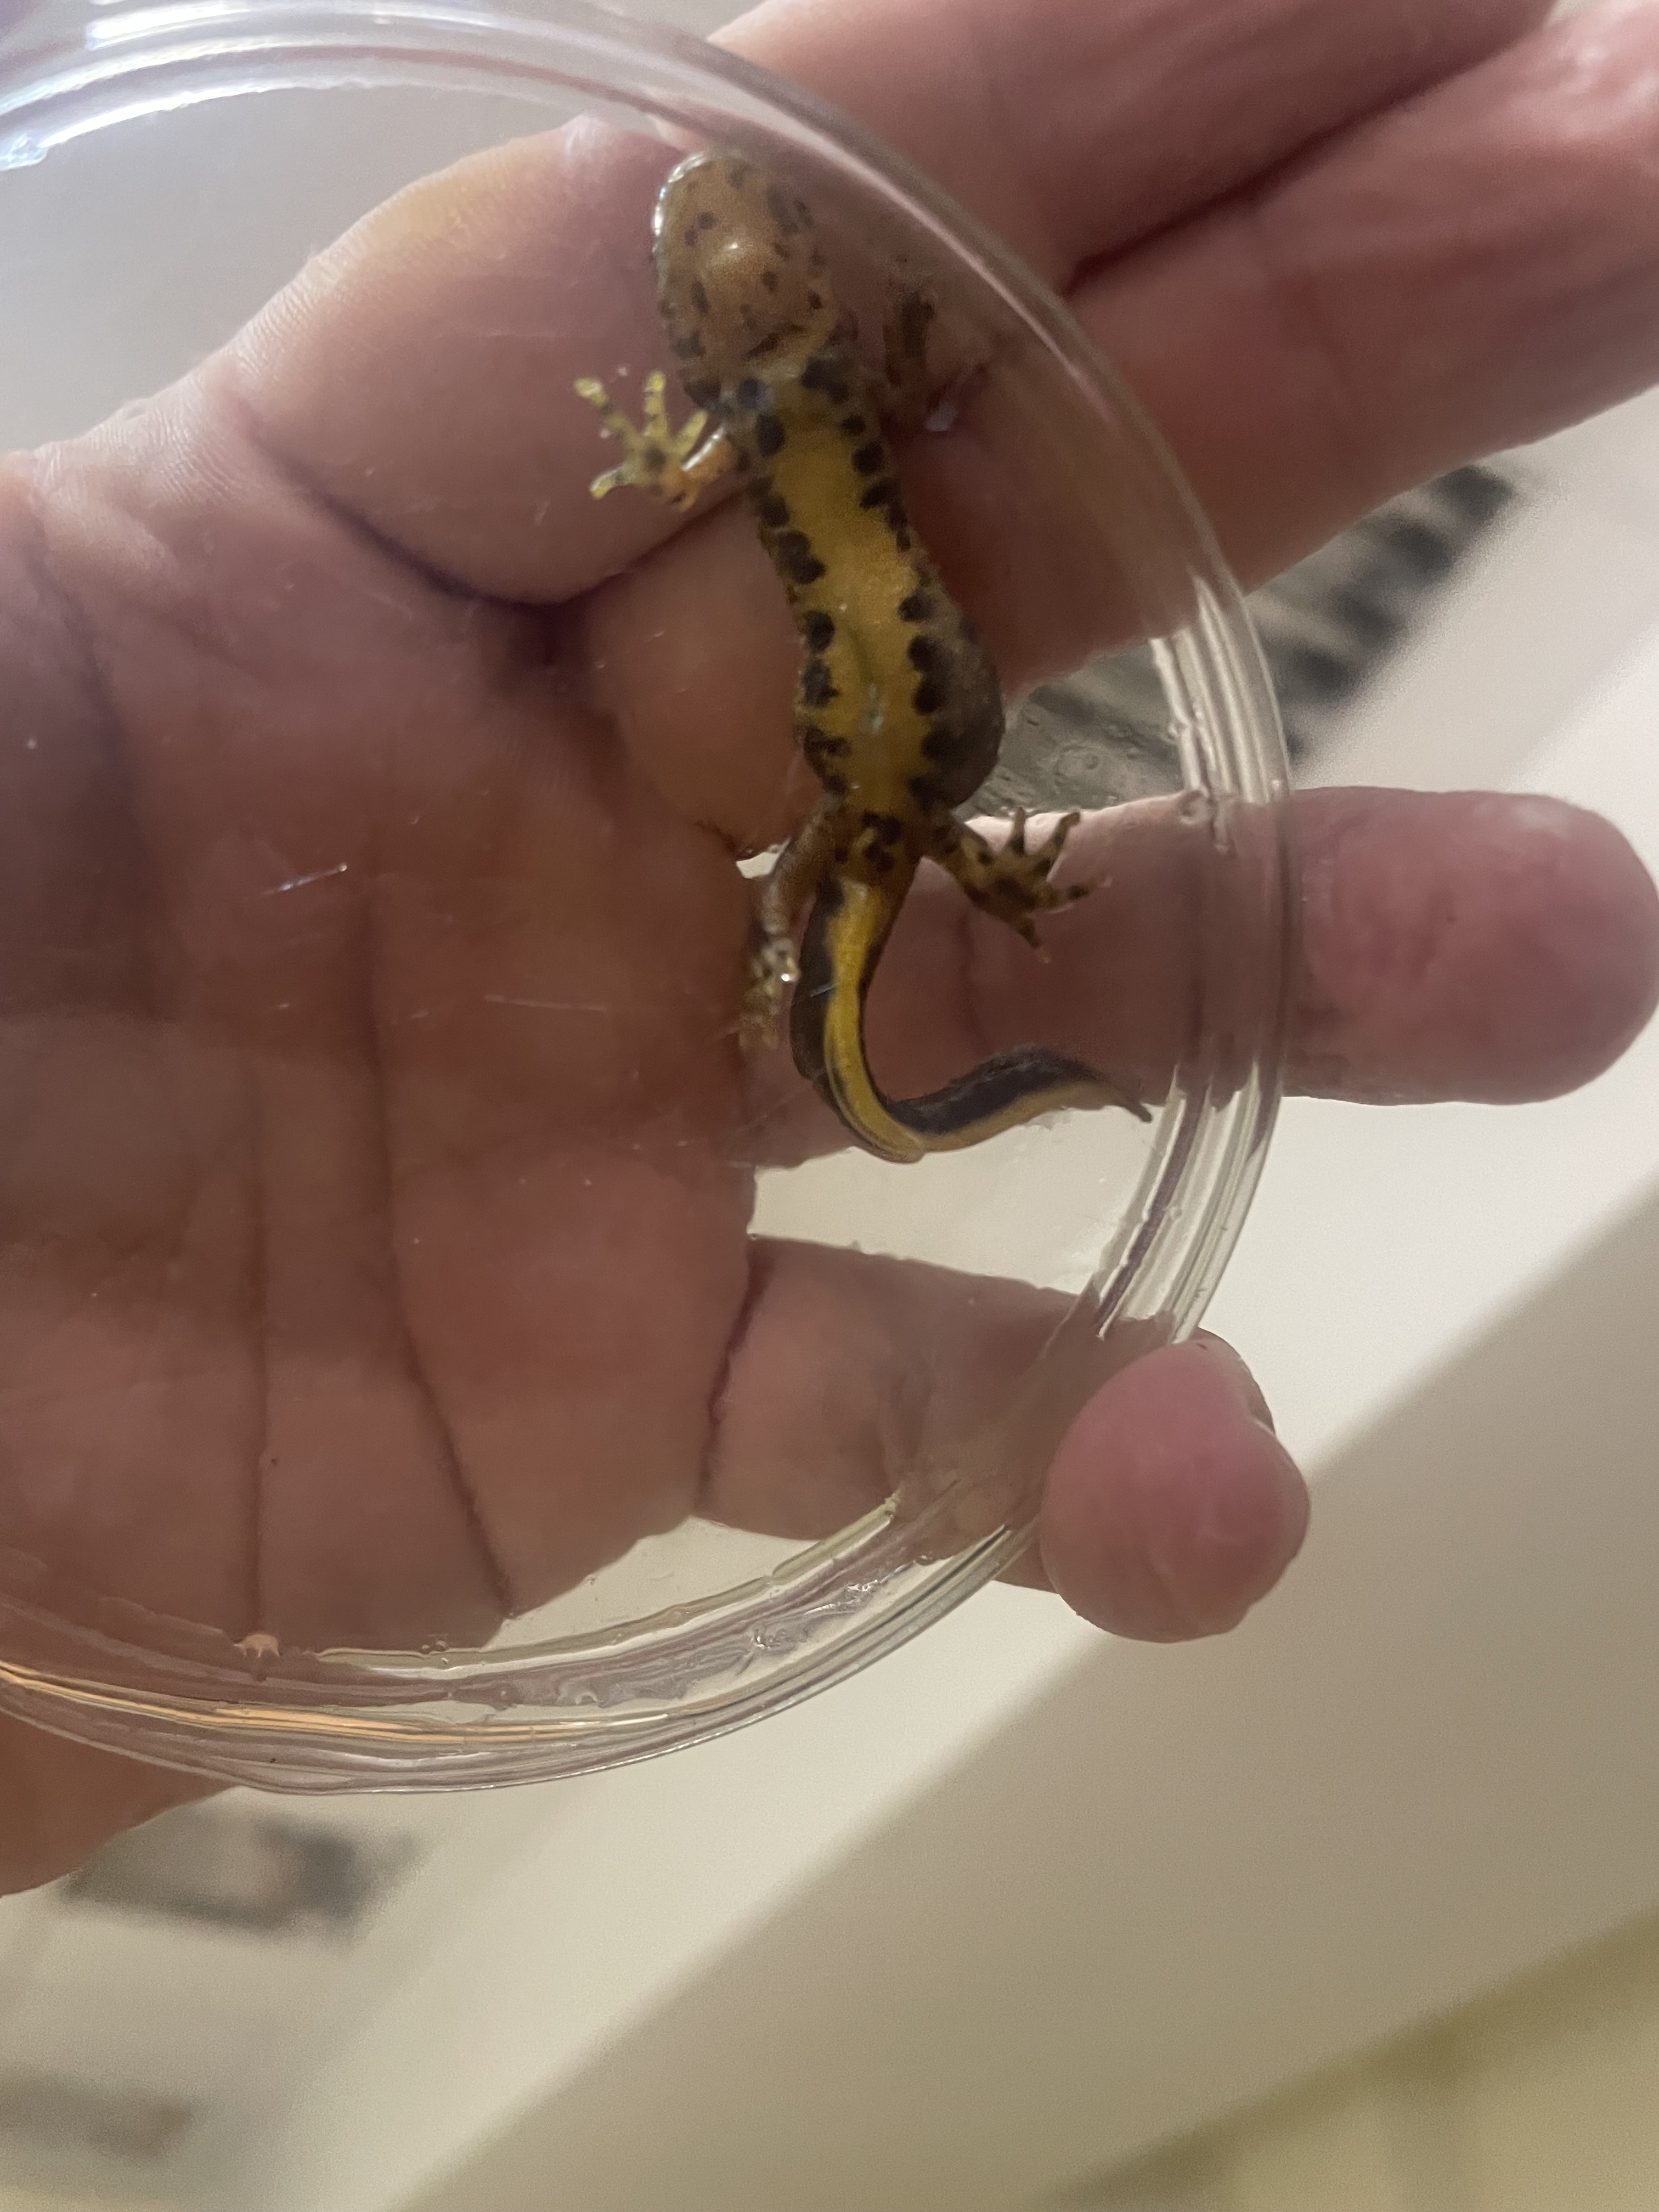Karelin_newt: (737, 406, 1004, 808)
